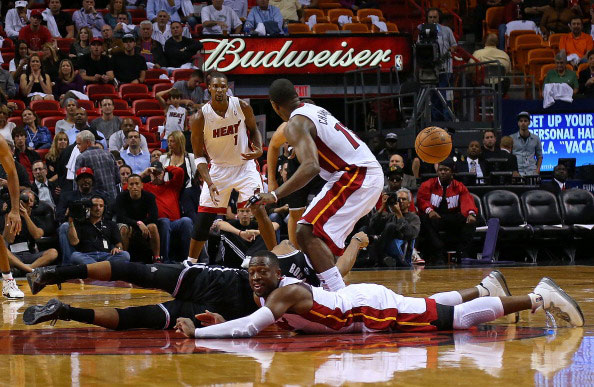10+: (1, 2, 593, 311)
down: (173, 247, 585, 349), (16, 244, 333, 344)
